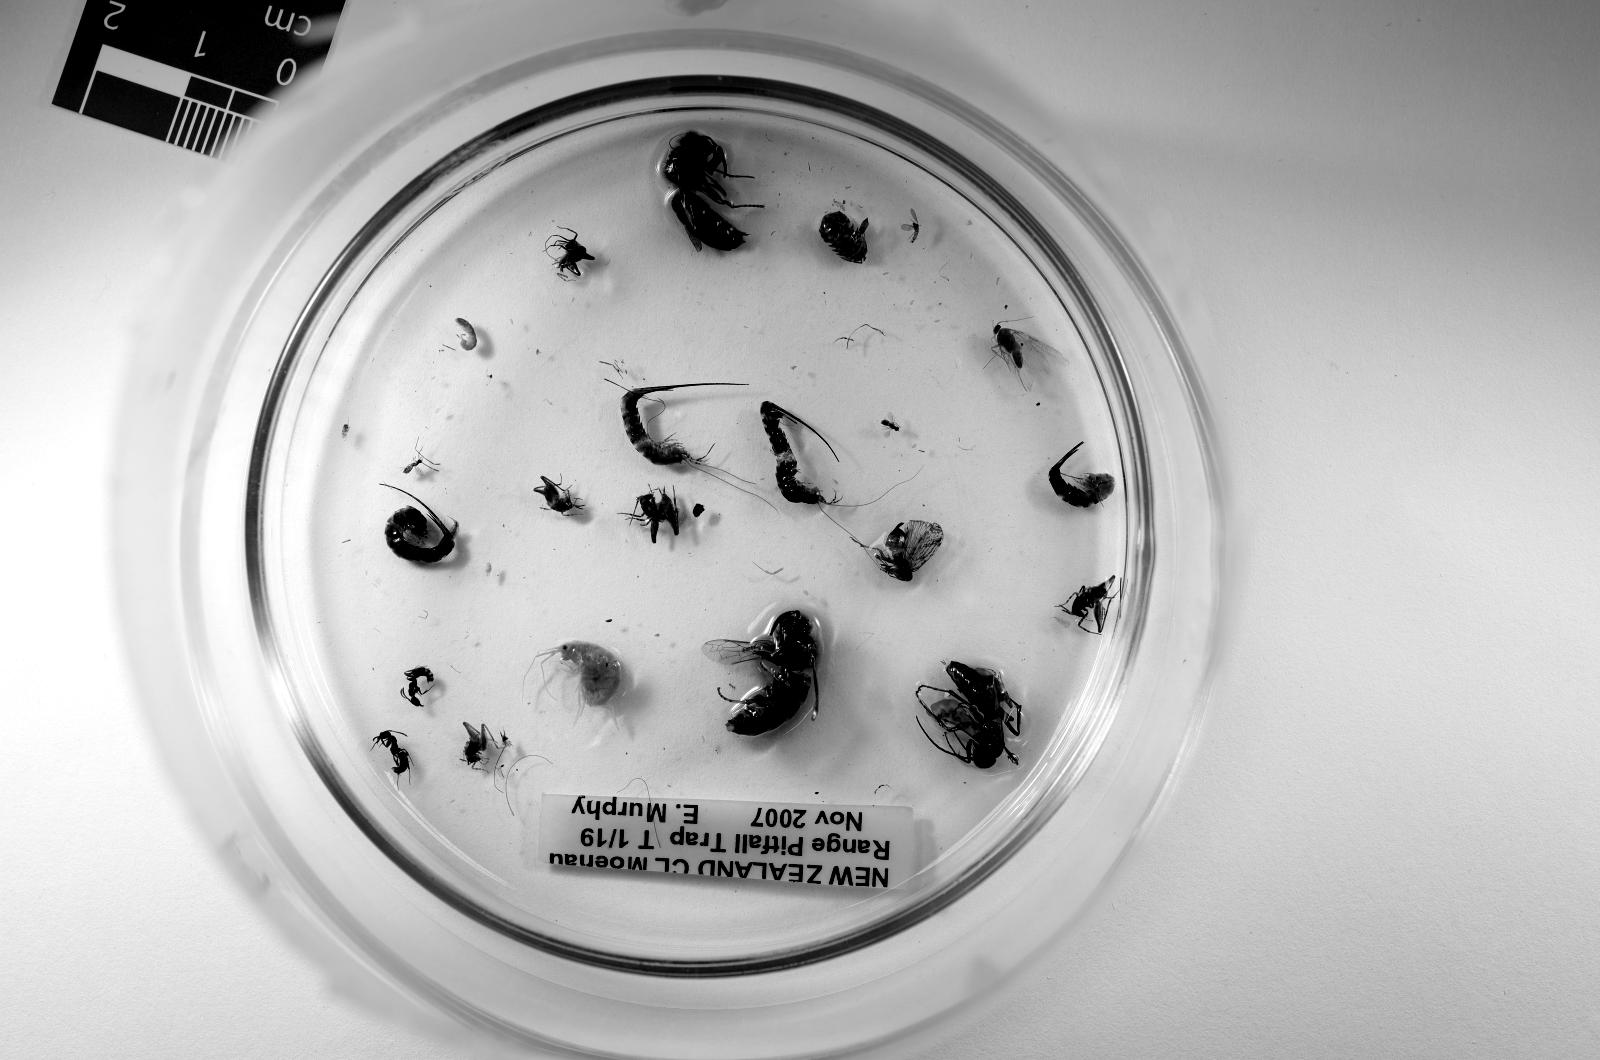amphipoda: (534, 640, 622, 717)
archaeognatha: (622, 382, 747, 466), (759, 401, 844, 506), (381, 484, 459, 562), (1047, 444, 1116, 506)
diptera: (991, 320, 1066, 391), (900, 208, 920, 245), (881, 413, 900, 438)
formicidae: (375, 730, 409, 776), (400, 665, 434, 708)
hemiptera: (866, 522, 944, 581)
hymenoptera: (916, 661, 1022, 767), (403, 457, 424, 477)
isopoda: (819, 211, 869, 264)
orthoptera: (1059, 575, 1116, 634), (628, 491, 678, 543), (547, 230, 594, 279), (534, 475, 584, 516), (462, 724, 494, 767)
vespidae: (703, 612, 819, 736), (662, 130, 762, 252)
